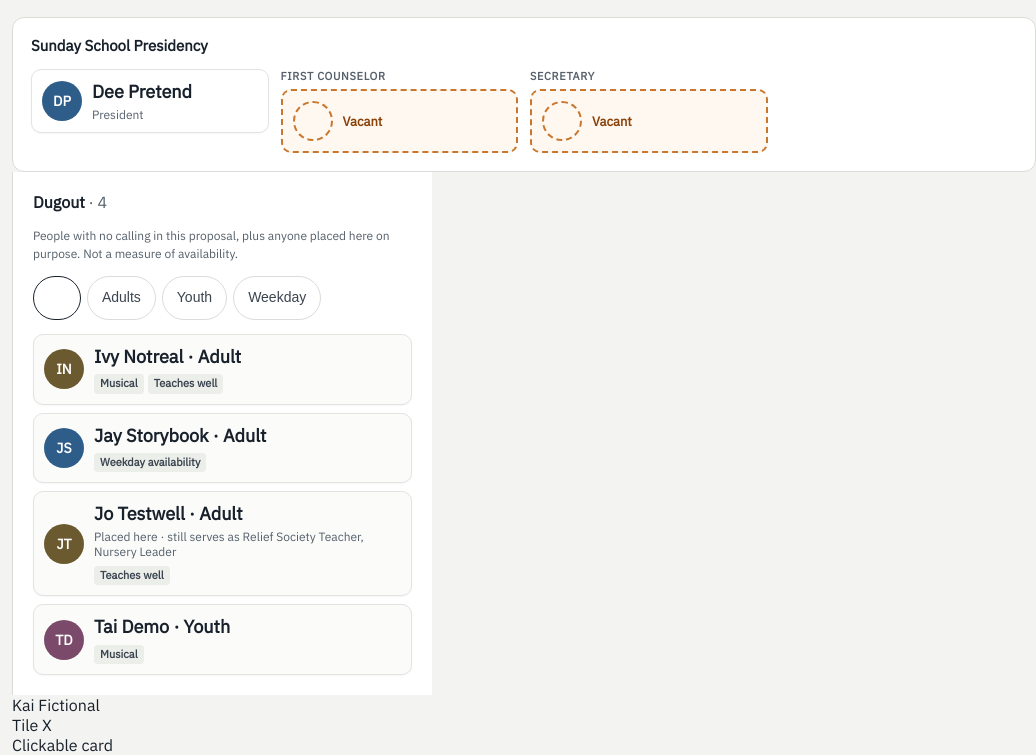
Test case: DndSurface › blocked drop shows an alert and commits nothing
The image size is (1036, 755).
(page scrolled)
Press the mouse on the element that starts with "Jo Testwell · Adult" at (222, 544), box [33,492,412,596]
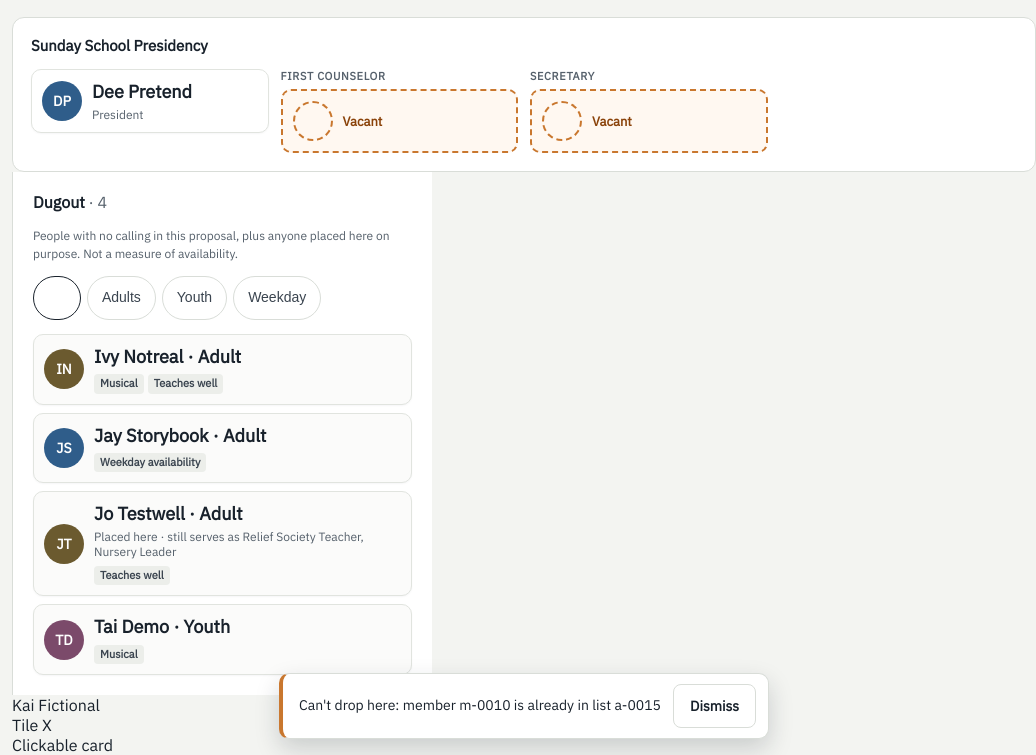
Click the button "Dismiss".
click(714, 706)  # box [673,684,756,728]
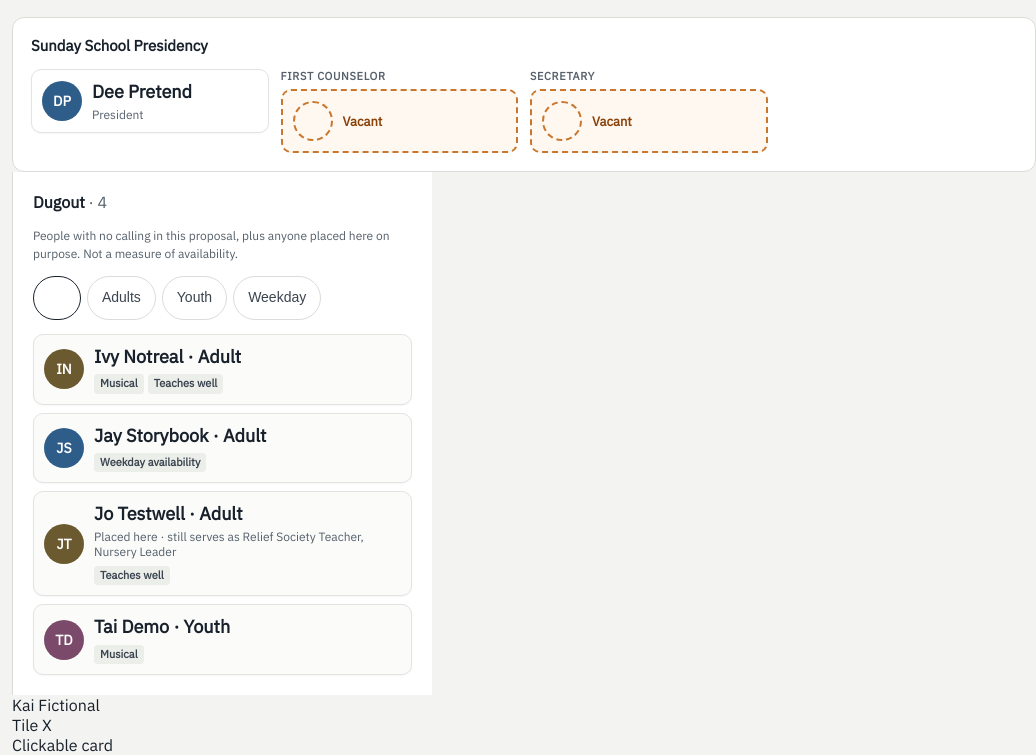
Expected: the message "Can't drop here: member m-0010 is already in list a-0015 Dismiss" is gone
Press the mouse on the element that starts with "Jo Testwell · Adult" at (222, 544), box [33,492,412,596]
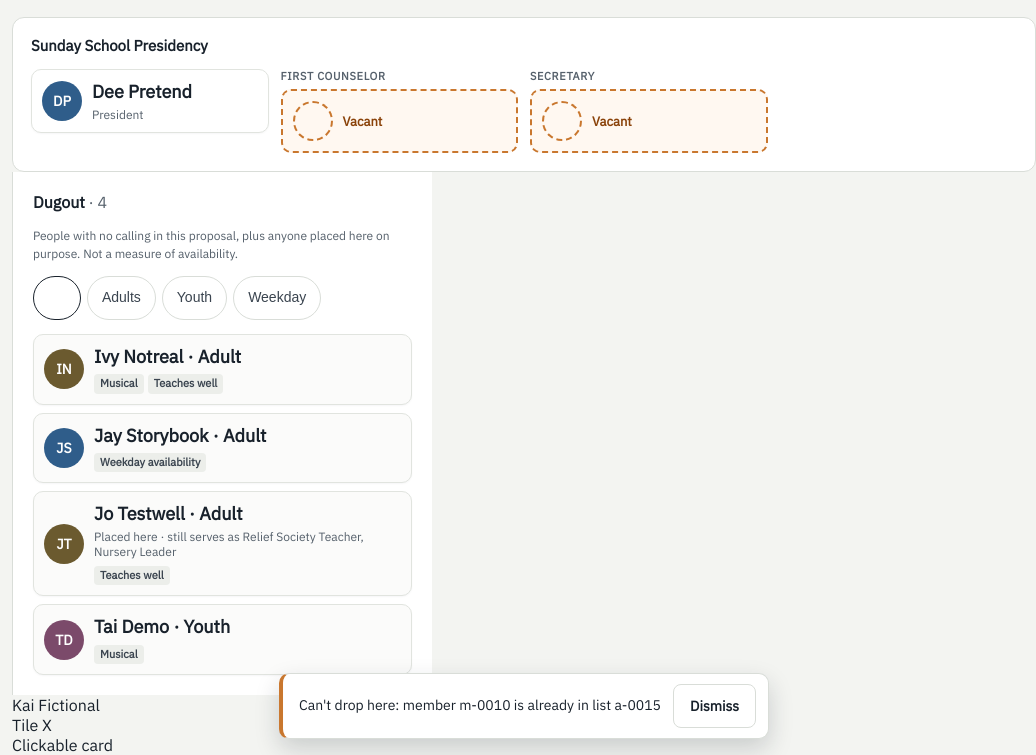
Expected: the message "Can't drop here: member m-0010 is already in list a-0015 Dismiss" is shown, [279,673,769,739]
Press the mouse on the element that starts with "Jo Testwell · Adult" at (222, 544), box [33,492,412,596]
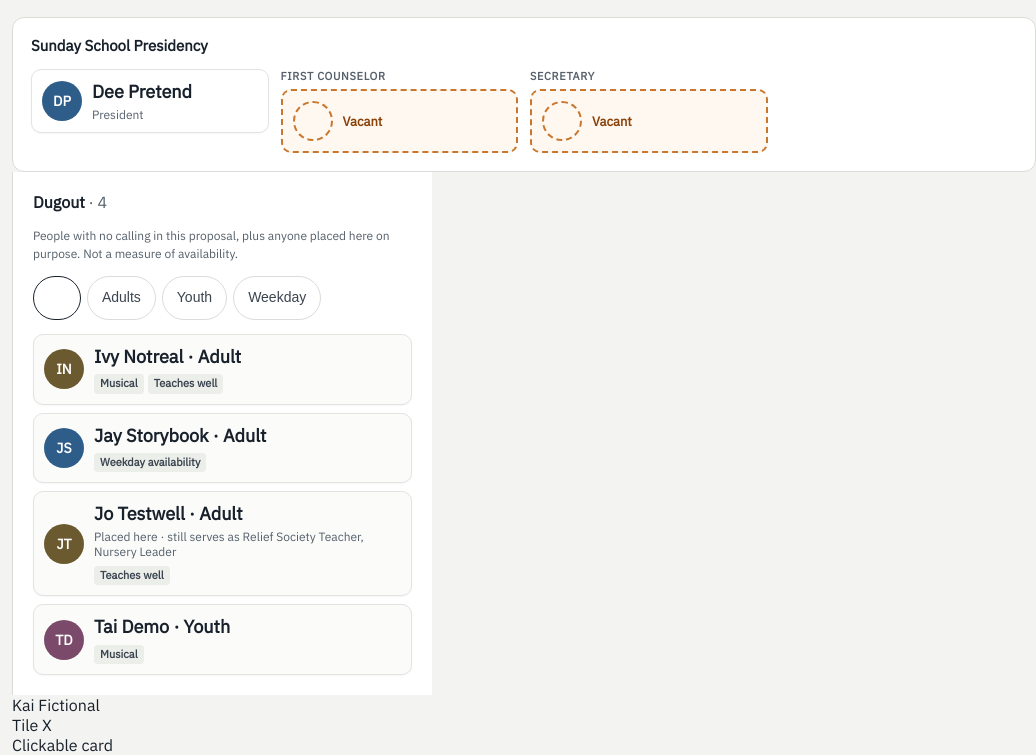
Expected: the message "Can't drop here: member m-0010 is already in list a-0015 Dismiss" is gone
